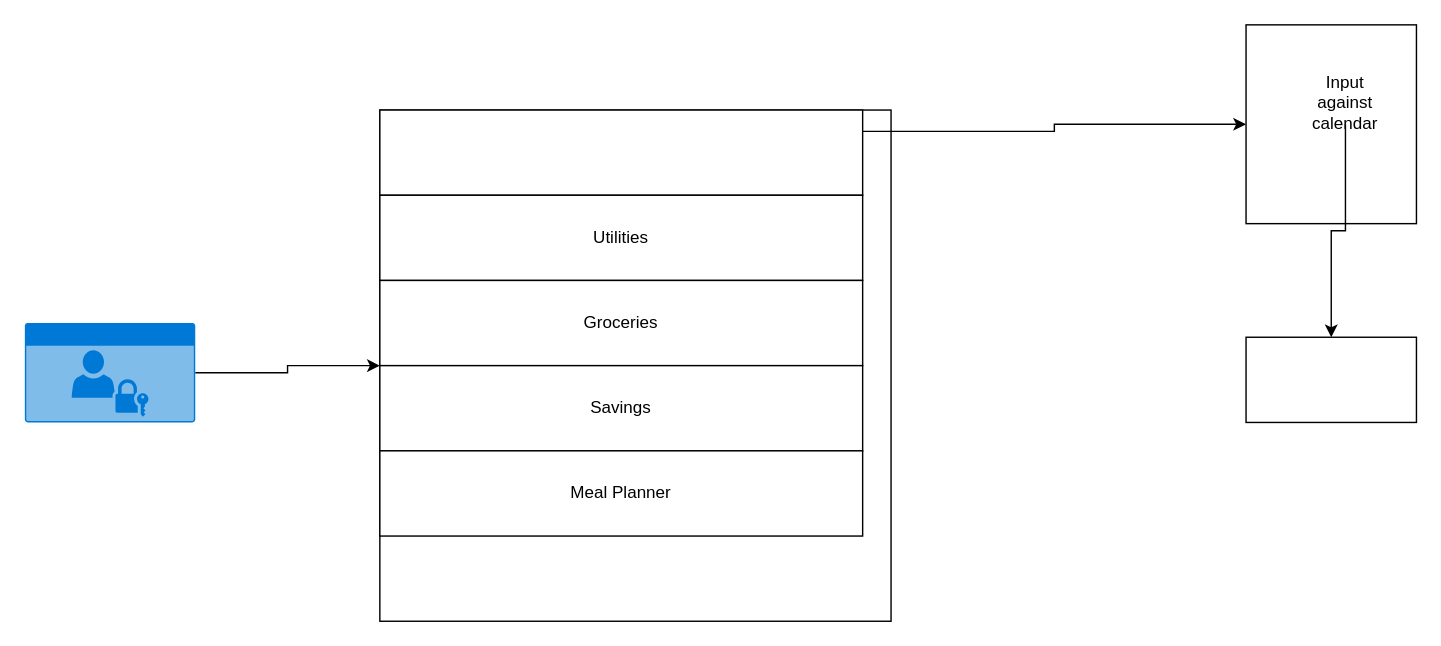
This 1441x646 diagram has some shape labels left out. The shapes that lost their labels are listed below. From the top down, each one's centre as x and y in pixels, then its label:
At point 620,152: "Expense Planner".
At point 109,372: "Login".
At point 1330,379: "Dashboard".
